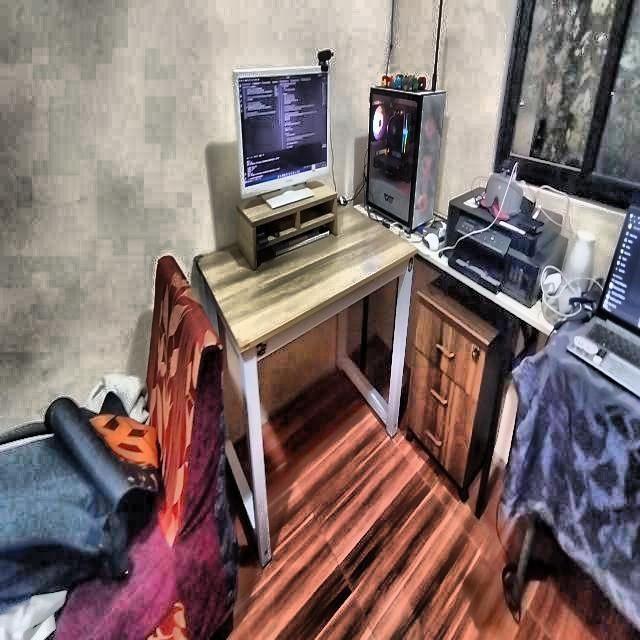mesa: (218, 203, 418, 513)
